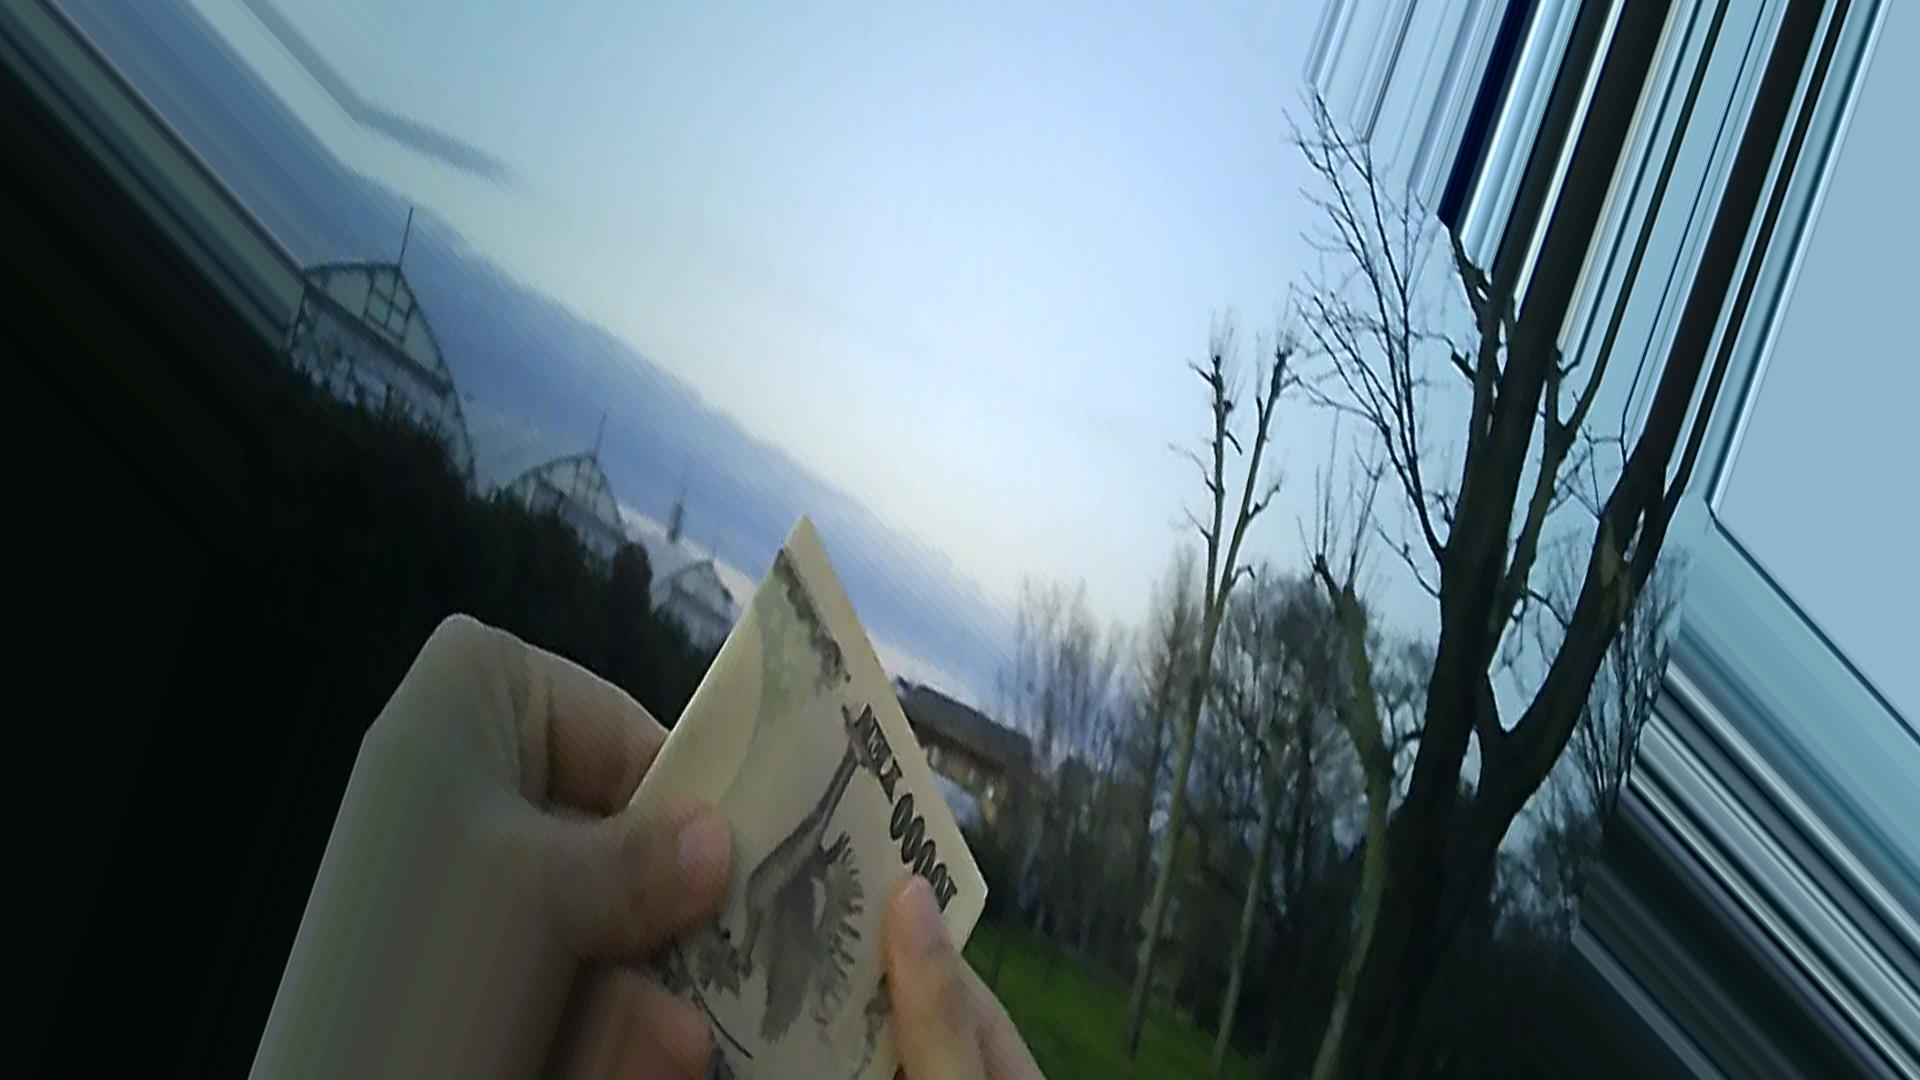10,000 Yen: (600, 516, 1000, 1068)
